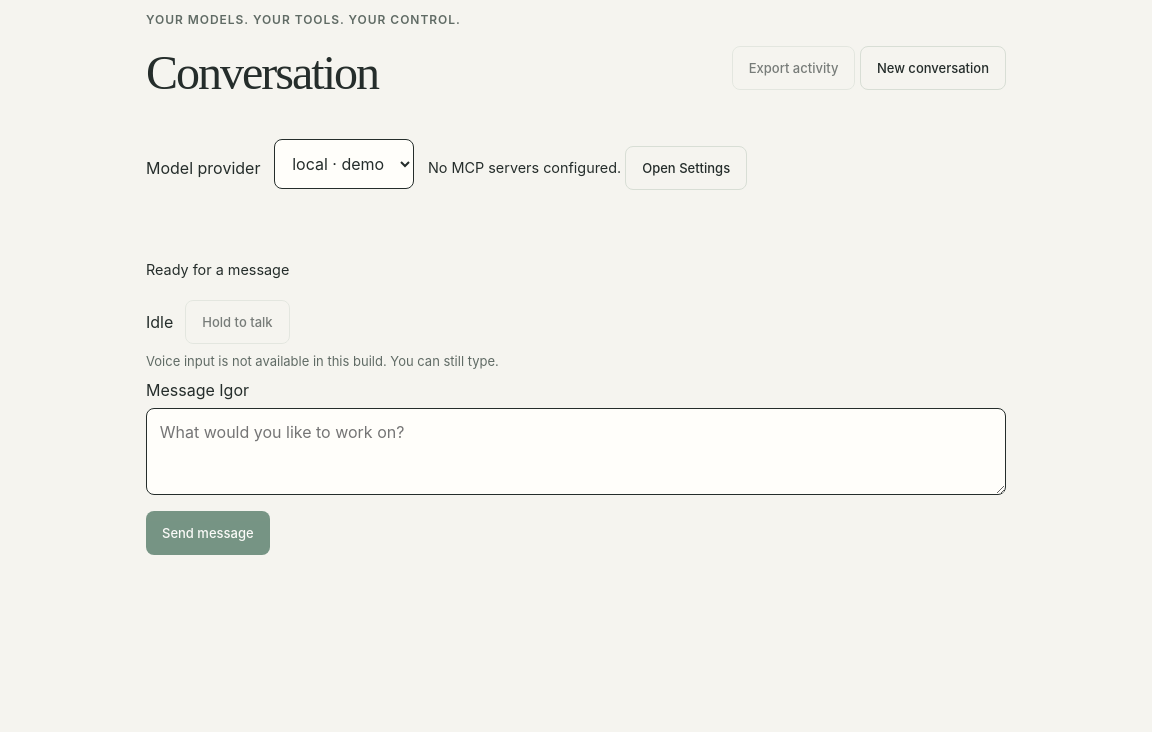
Test: uses fixed IPC failure text without exposing native diagnostics
Type "Hello" into the text box with id "message" at x=576, y=452, box left=146, top=408, right=1006, bottom=495
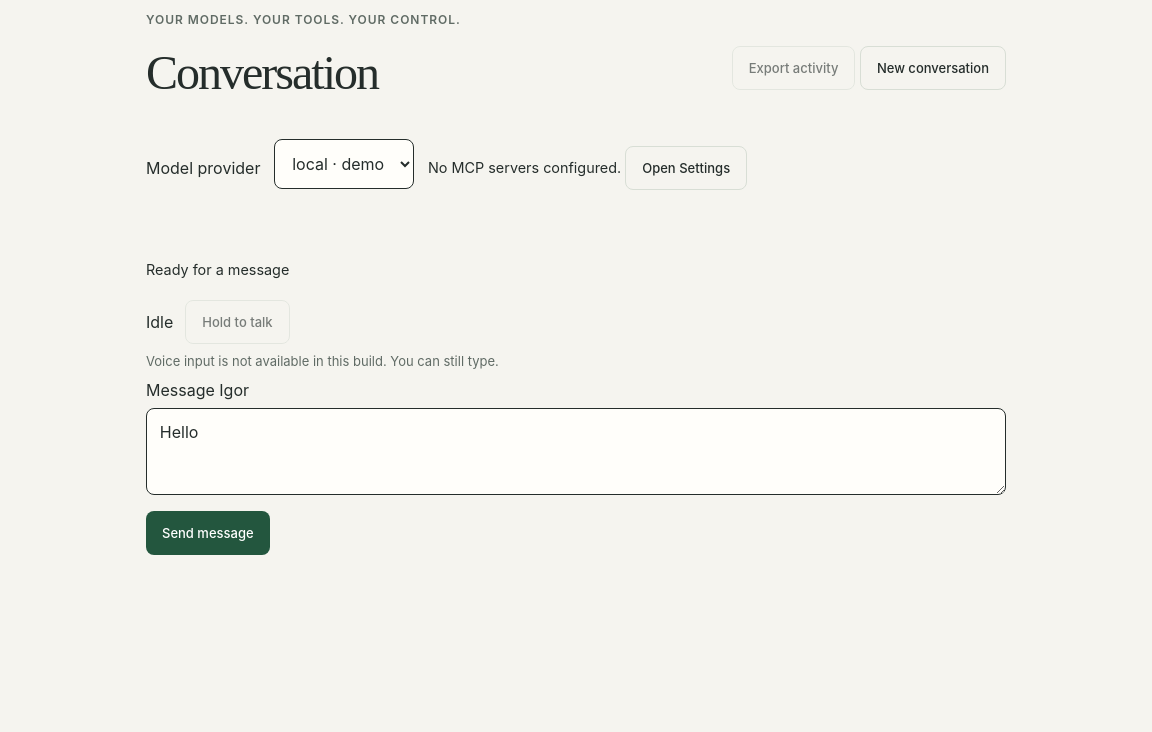
Submit the form, box left=146, top=380, right=1006, bottom=555
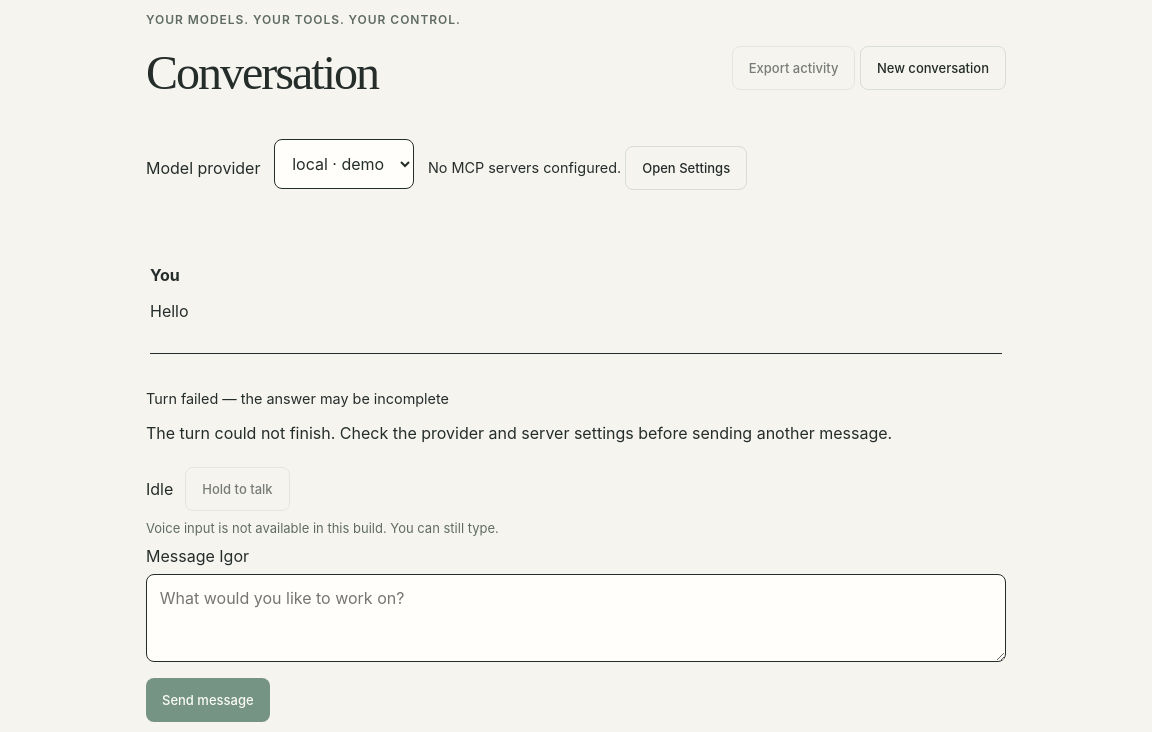
Check: the text "turn could not finish" is shown, box left=146, top=423, right=892, bottom=443
